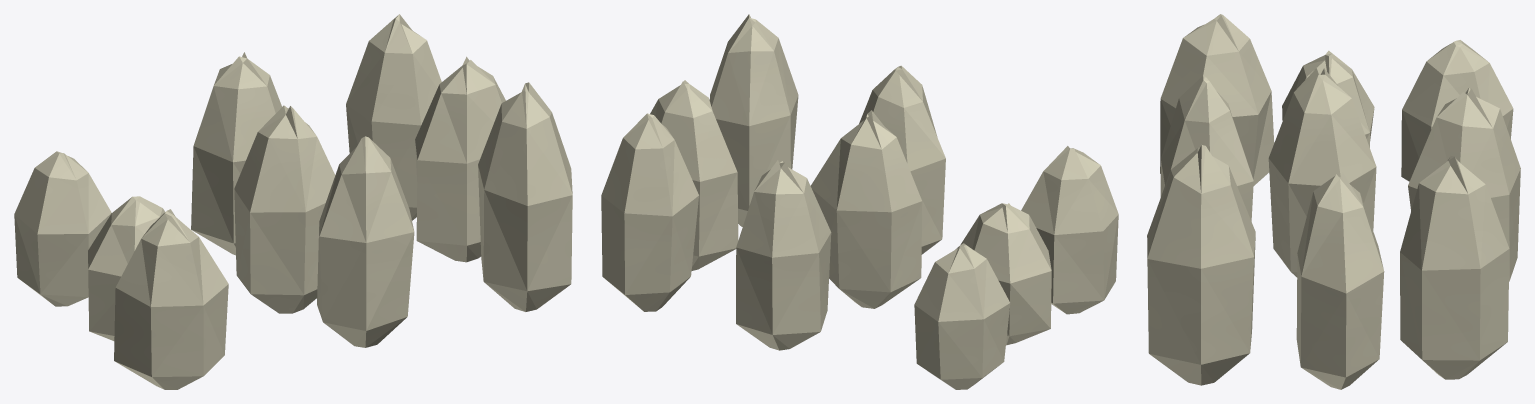
File: WarrensC_WVC051_SaltHeap_Mars_SM.fbx
3 renders of one model, left to right at view 1: azimuth 30°, elevation 25°; view 2: azimuth 150°, elevation 25°; view 3: azimuth 270°, elevation 25°, orthographic. The views are drawn at different scales.
Visible parts, largest first — view 1: WarrensC_WVC051_SaltHeap_Mars_SM.001; view 2: WarrensC_WVC051_SaltHeap_Mars_SM.001; view 3: WarrensC_WVC051_SaltHeap_Mars_SM.001.
Part boxes in pixels (left/top/right/bottom): WarrensC_WVC051_SaltHeap_Mars_SM.001: left=14, top=14, right=572, bottom=389; WarrensC_WVC051_SaltHeap_Mars_SM.001: left=601, top=14, right=1118, bottom=389; WarrensC_WVC051_SaltHeap_Mars_SM.001: left=1147, top=14, right=1520, bottom=389.
Size of the model in its own units: 150 by 100 by 70.
